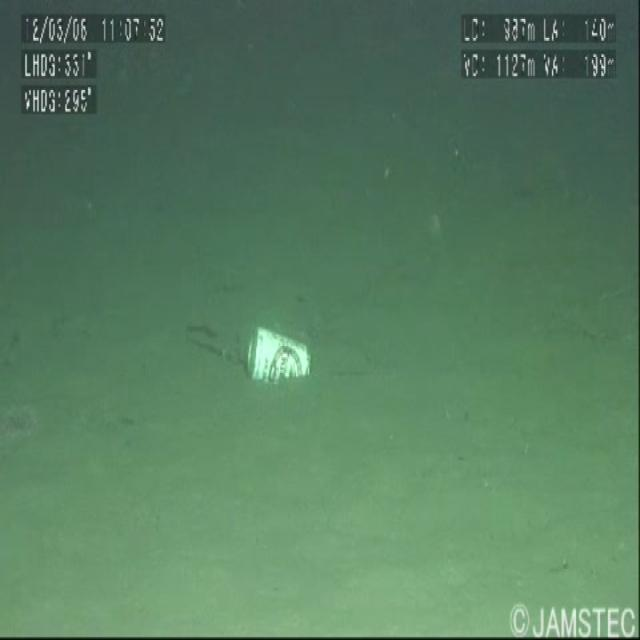Metal: (220, 311, 327, 428)
